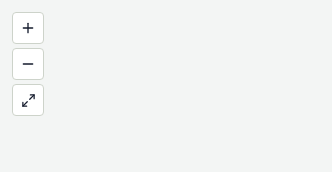
it: ZoomControlsView › names each button in a tooltip on hover
Hover over the button named "Toàn vùng" at (28, 100), box left=12, top=84, right=44, bottom=116
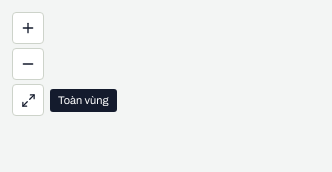
Now the tooltip reads "Toàn vùng", box left=58, top=94, right=109, bottom=106
